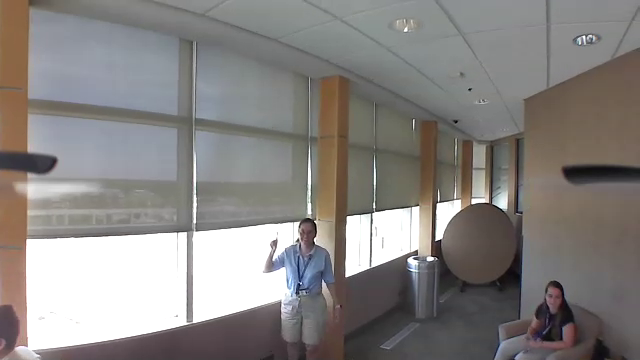up: (265, 228, 285, 253)
